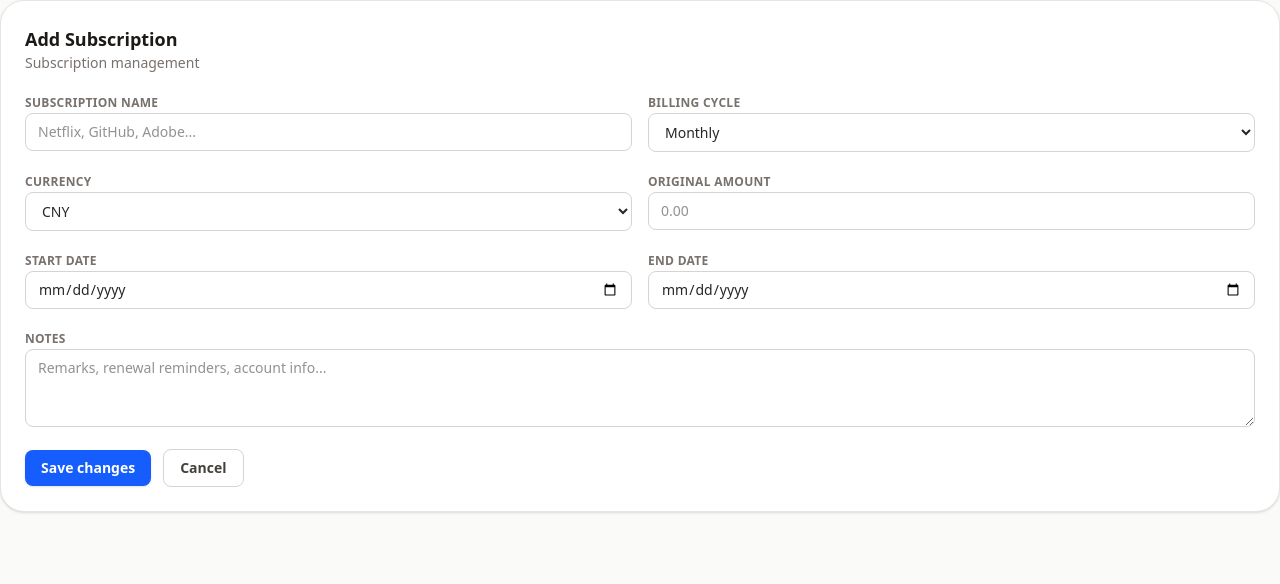
Test: SubscriptionForm › Form Validation › should validate amount field is required
Type "Netflix" into the field with placeholder "Netflix, GitHub, Adobe..." at (328, 132), box x1=25 y1=113 x2=632 y2=151
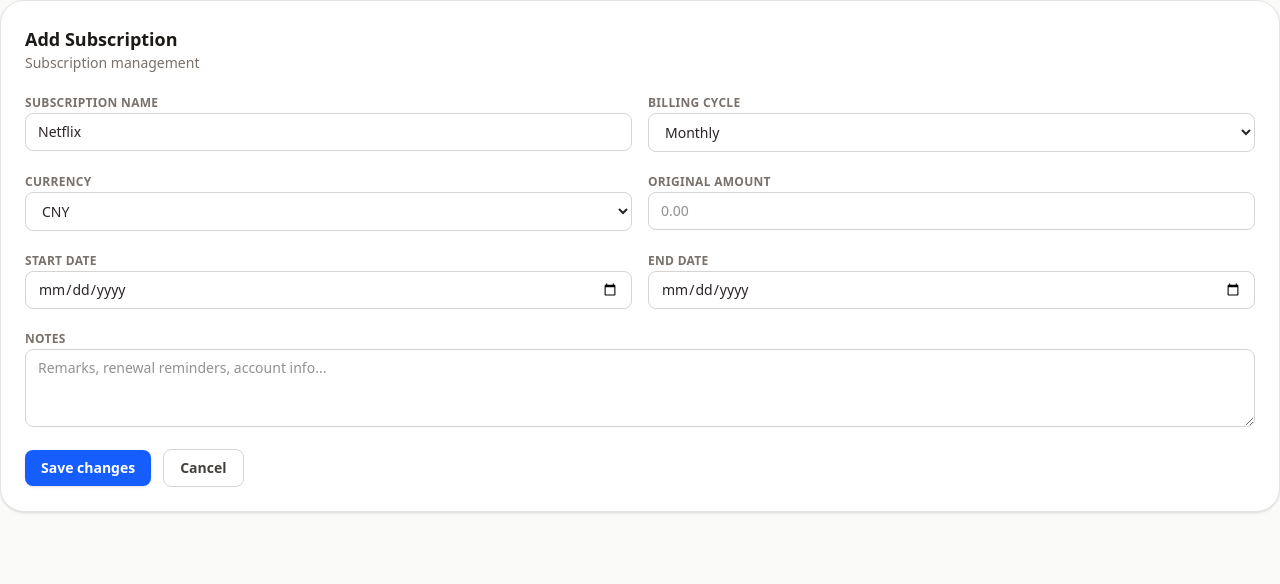
Type "2024-01-01" into the date field labelled "Start date" at (328, 290), box x1=25 y1=271 x2=632 y2=309
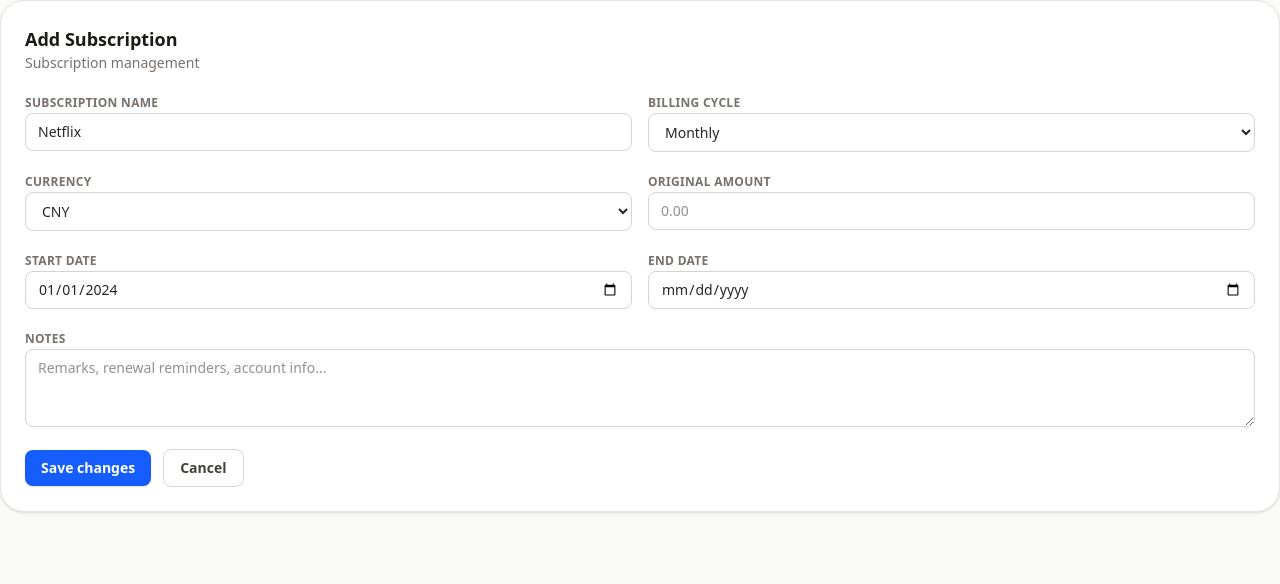
Click the button "Save changes" at (88, 468), box x1=25 y1=450 x2=151 y2=486
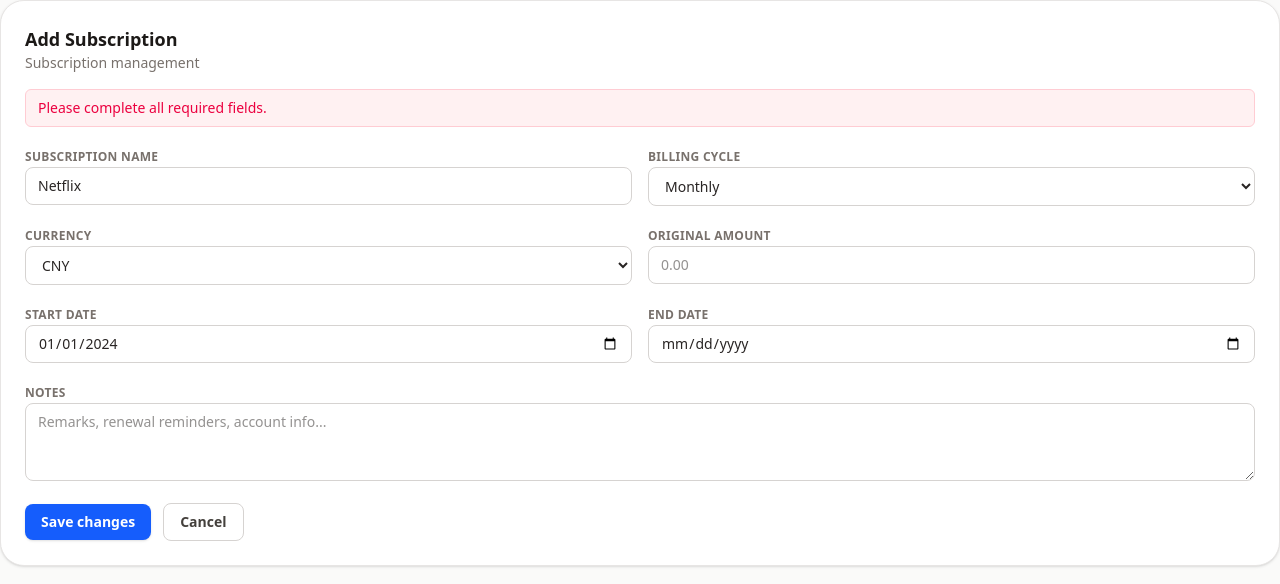
Check: the text "Please complete all required fields." is shown, box x1=25 y1=89 x2=1255 y2=127
